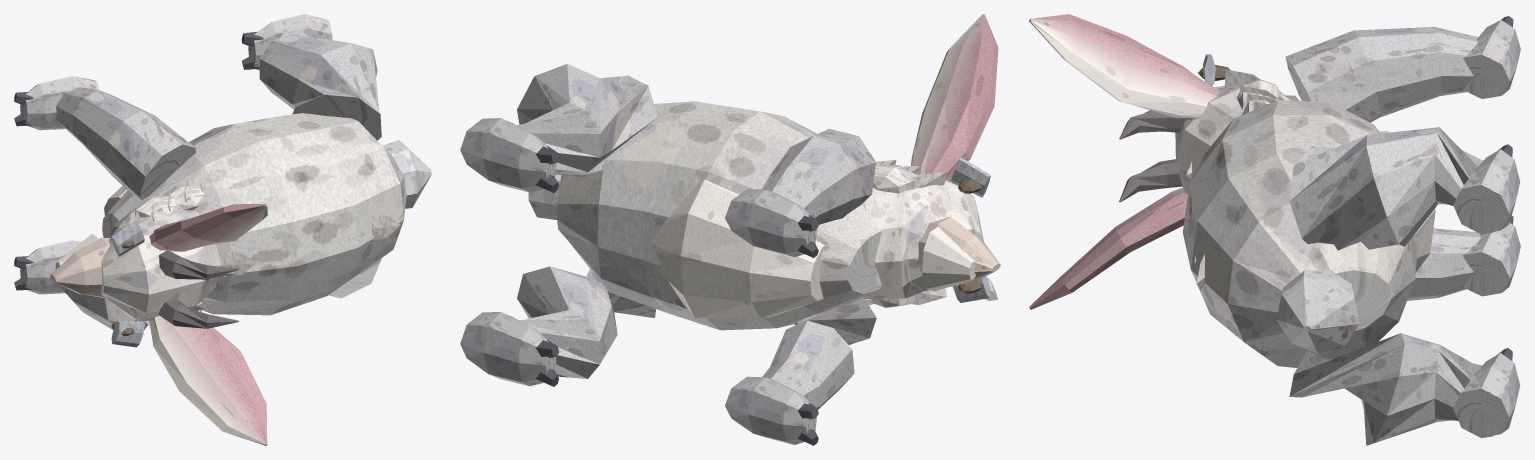
File: nevisco_blockout_v02.glb
The picture shows the model from 3 angles, left to right: view 1: azimuth 30°, elevation 25°; view 2: azimuth 150°, elevation 25°; view 3: azimuth 270°, elevation 25°; orthographic projection. The views are drawn at different scales.
Visible parts, largest first — view 1: nevisco; view 2: nevisco; view 3: nevisco.
Boxes of the visible parts, x1,y1,x2,y2 form: nevisco: [14, 14, 431, 445]; nevisco: [460, 14, 1000, 445]; nevisco: [1029, 14, 1520, 445].
Bounding box in the file's own units: 1.55 × 0.9367 × 1.39.
1 material, 1 textured.
